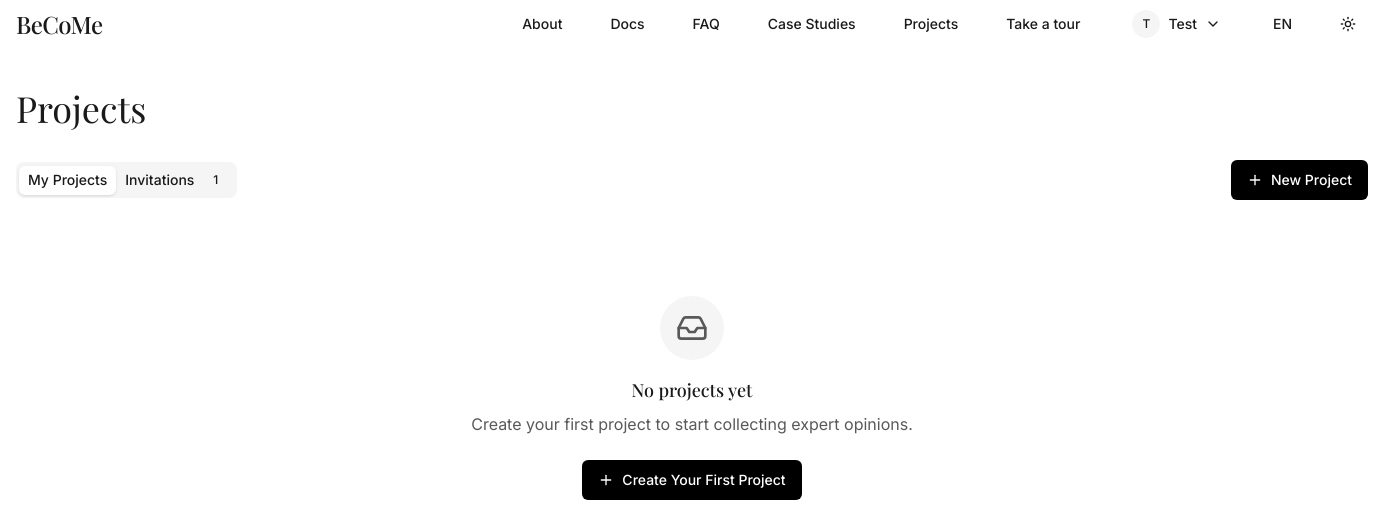
Test: Projects › Tabs › switches to invitations tab
The image size is (1385, 517).
Step 1. Click the tab "Invitations 1" → x=175, y=180, box [116, 166, 234, 194]
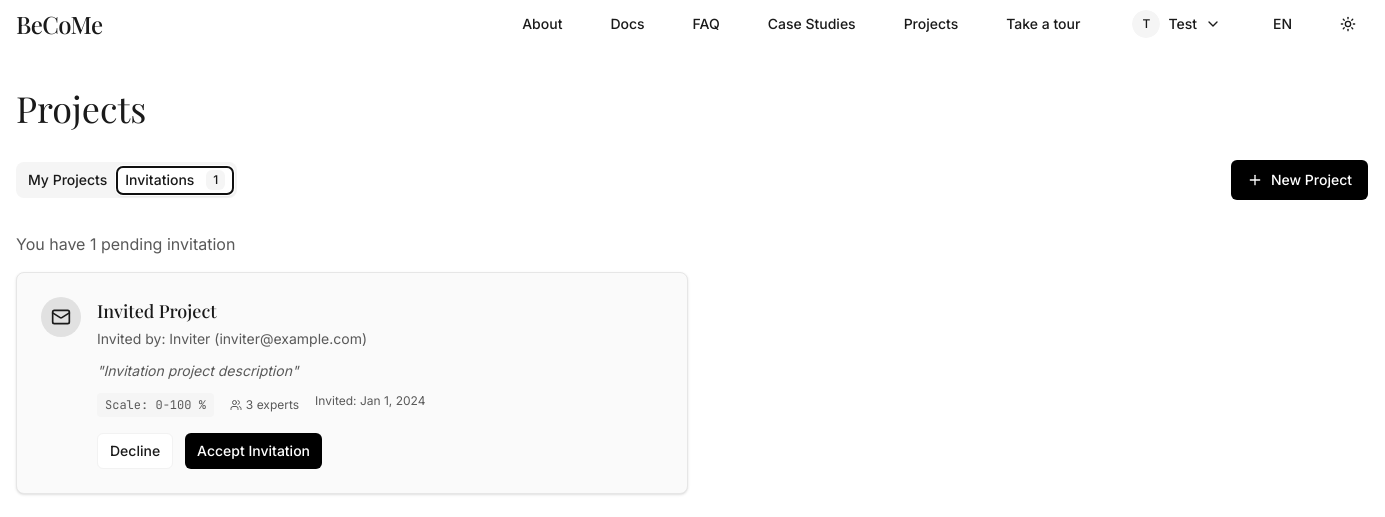
Now the heading "Invited Project" is shown, box [97, 299, 217, 323]
